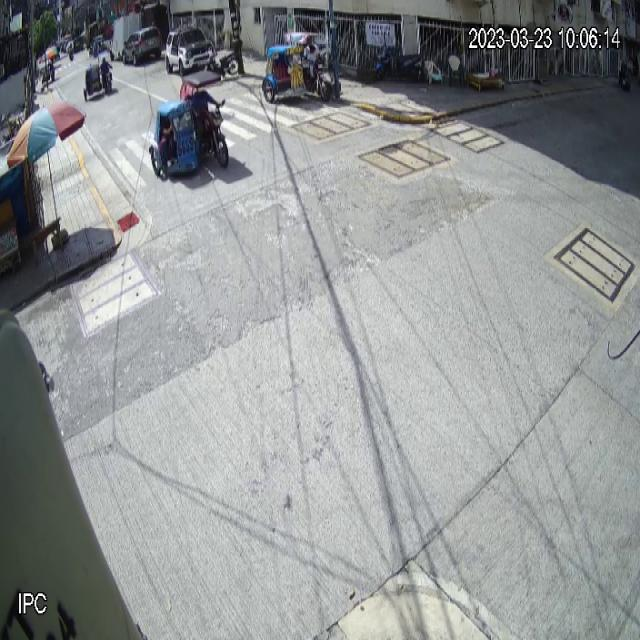Tricycle: (149, 70, 230, 178), (262, 32, 332, 103)
